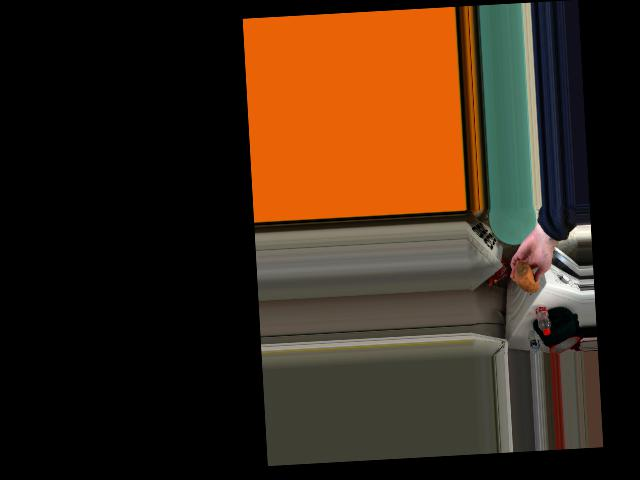sweet_potato: (514, 263, 537, 293)
